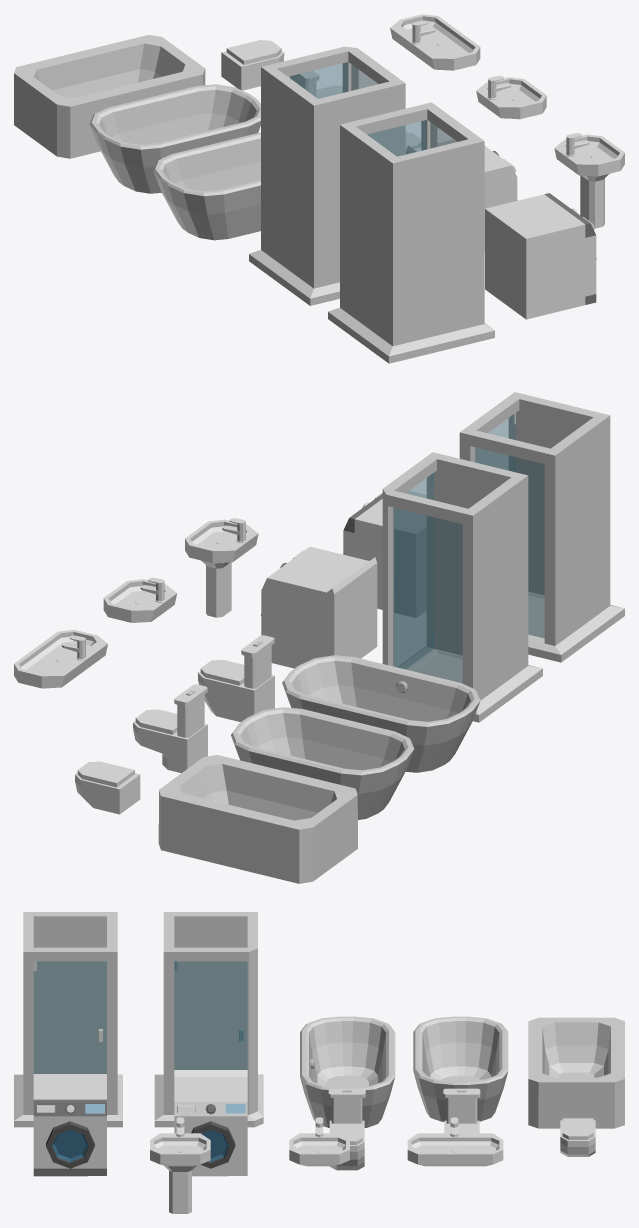
Rendered from Low Poly Bathroom Assets.fbx.
3 renders of one model, top to bottom at view 1: azimuth 30°, elevation 25°; view 2: azimuth 150°, elevation 25°; view 3: azimuth 270°, elevation 25°, orthographic. The views are drawn at different scales.
Parts seen in each view (by area): view 1: Cube, Circle.001, Cube.007, Plane, Cube.006, Cube.004, Plane.004, Plane.008, Plane.007, Cube.014, Plane.003, Cube.001 (+2 smaller); view 2: Circle.001, Cube, Cube.007, Cube.004, Plane.003, Cube.006, Cube.010, Cube.011, Plane, Cube.012, Cube.013, Plane.004 (+5 smaller); view 3: Cube, Circle.001, Cube.007, Cube.002, Cube.004, Cube.011, Cube.006, Plane, Plane.003, Plane.008, Plane.004, Cube.012 (+3 smaller).
Boxes of the visible parts, x1,y1,x2,y2 form: Cube: [328, 102, 494, 363]; Circle.001: [249, 46, 405, 305]; Cube.007: [14, 35, 205, 158]; Plane: [485, 193, 596, 319]; Cube.006: [90, 84, 260, 193]; Cube.004: [153, 132, 260, 240]; Plane.004: [554, 133, 624, 228]; Plane.008: [390, 14, 480, 70]; Plane.007: [476, 76, 546, 119]; Cube.014: [221, 40, 284, 90]; Plane.003: [406, 139, 517, 252]; Cube.001: [367, 120, 426, 156]; Circle.001: [382, 452, 542, 722]; Cube: [459, 392, 624, 662]; Cube.007: [158, 755, 357, 883]; Cube.004: [282, 655, 480, 772]; Plane.003: [261, 546, 377, 668]; Cube.006: [231, 707, 414, 819]; Cube.010: [393, 507, 462, 683]; Cube.011: [394, 473, 433, 668]; Plane: [343, 490, 426, 617]; Cube.012: [197, 635, 274, 722]; Cube.013: [133, 684, 207, 773]; Plane.004: [185, 518, 258, 617]; Cube: [14, 912, 122, 1127]; Circle.001: [154, 912, 263, 1127]; Cube.007: [528, 1017, 624, 1128]; Cube.002: [33, 961, 106, 1073]; Cube.004: [300, 1016, 395, 1127]; Cube.011: [174, 961, 247, 1069]; Cube.006: [413, 1016, 508, 1121]; Plane: [33, 1074, 106, 1176]; Plane.003: [174, 1070, 247, 1176]; Plane.008: [407, 1117, 503, 1166]; Plane.004: [150, 1117, 210, 1213]; Cube.012: [328, 1088, 365, 1170].
Bounding box in the file's own units: 764 × 399 × 1275.
